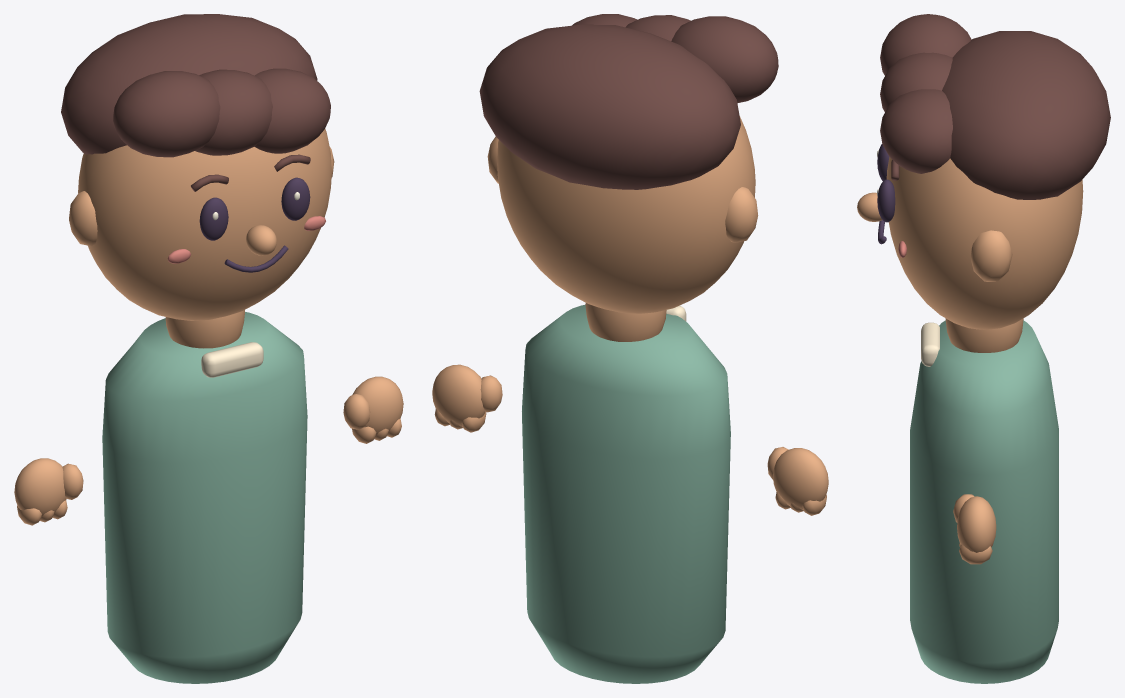
Rendered from Floating_Customer.fbx.
3 views of the same model, side by side, from view 1: azimuth 30°, elevation 25°; view 2: azimuth 150°, elevation 25°; view 3: azimuth 270°, elevation 25° (orthographic). The views are drawn at different scales.
Visible parts, largest first — view 1: People_Floating_crew_Customer Tailored torso.001, People_Floating_crew_Customer Cheek shaped head.001, People_Floating_crew_Customer Hair cap.001, People_Floating_crew_Customer Swept fringe.003, People_Floating_crew_Customer Swept fringe.005, People_Floating_crew_Customer Swept fringe.004, People_Floating_crew_Customer Mitten palm.002, People_Floating_crew_Customer Neck.001, People_Floating_crew_Customer Mitten palm.003, People_Floating_crew_Customer Shirt collar.001, People_Floating_crew_Customer Ear.002, People_Floating_crew_Customer Simple oval eye.002 (+4 smaller); view 2: People_Floating_crew_Customer Tailored torso.001, People_Floating_crew_Customer Hair cap.001, People_Floating_crew_Customer Cheek shaped head.001, People_Floating_crew_Customer Swept fringe.003, People_Floating_crew_Customer Mitten palm.002, People_Floating_crew_Customer Mitten palm.003, People_Floating_crew_Customer Neck.001, People_Floating_crew_Customer Ear.002, People_Floating_crew_Customer Swept fringe.004, People_Floating_crew_Customer Thumb.003; view 3: People_Floating_crew_Customer Tailored torso.001, People_Floating_crew_Customer Hair cap.001, People_Floating_crew_Customer Cheek shaped head.001, People_Floating_crew_Customer Swept fringe.005, People_Floating_crew_Customer Swept fringe.003, People_Floating_crew_Customer Swept fringe.004, People_Floating_crew_Customer Mitten palm.003, People_Floating_crew_Customer Neck.001, People_Floating_crew_Customer Ear.003, People_Floating_crew_Customer Shirt collar.001, People_Floating_crew_Customer Simple oval eye.003, People_Floating_crew_Customer Small nose.001 (+1 smaller).
Boxes of the visible parts, box(x1,y1,x2,y2) form: People_Floating_crew_Customer Tailored torso.001: box(102, 312, 307, 683); People_Floating_crew_Customer Cheek shaped head.001: box(78, 128, 331, 320); People_Floating_crew_Customer Hair cap.001: box(61, 14, 317, 154); People_Floating_crew_Customer Swept fringe.003: box(113, 71, 220, 157); People_Floating_crew_Customer Swept fringe.005: box(254, 68, 330, 153); People_Floating_crew_Customer Swept fringe.004: box(195, 69, 272, 155); People_Floating_crew_Customer Mitten palm.002: box(14, 458, 66, 517); People_Floating_crew_Customer Neck.001: box(165, 310, 244, 348); People_Floating_crew_Customer Mitten palm.003: box(352, 376, 403, 435); People_Floating_crew_Customer Shirt collar.001: box(201, 342, 263, 377); People_Floating_crew_Customer Ear.002: box(69, 191, 97, 246); People_Floating_crew_Customer Simple oval eye.002: box(199, 197, 228, 240); People_Floating_crew_Customer Tailored torso.001: box(522, 305, 730, 683); People_Floating_crew_Customer Hair cap.001: box(479, 24, 740, 189); People_Floating_crew_Customer Cheek shaped head.001: box(497, 116, 755, 313); People_Floating_crew_Customer Swept fringe.003: box(671, 16, 778, 103); People_Floating_crew_Customer Mitten palm.002: box(773, 448, 828, 510); People_Floating_crew_Customer Mitten palm.003: box(432, 364, 485, 427); People_Floating_crew_Customer Neck.001: box(585, 303, 666, 341); People_Floating_crew_Customer Ear.002: box(725, 187, 758, 242); People_Floating_crew_Customer Swept fringe.004: box(625, 15, 690, 41); People_Floating_crew_Customer Thumb.003: box(480, 375, 502, 412); People_Floating_crew_Customer Tailored torso.001: box(910, 320, 1058, 683); People_Floating_crew_Customer Hair cap.001: box(942, 31, 1110, 199); People_Floating_crew_Customer Cheek shaped head.001: box(886, 157, 1083, 329); People_Floating_crew_Customer Swept fringe.005: box(880, 89, 952, 173); People_Floating_crew_Customer Swept fringe.003: box(880, 14, 971, 75); People_Floating_crew_Customer Swept fringe.004: box(880, 52, 952, 111); People_Floating_crew_Customer Mitten palm.003: box(957, 496, 996, 552); People_Floating_crew_Customer Neck.001: box(945, 318, 1023, 352); People_Floating_crew_Customer Ear.003: box(970, 230, 1012, 281); People_Floating_crew_Customer Shirt collar.001: box(921, 322, 939, 366); People_Floating_crew_Customer Simple oval eye.003: box(877, 179, 895, 222); People_Floating_crew_Customer Small nose.001: box(857, 192, 882, 221).
Size of the model in its own units: 99.16 by 152 by 57.93.
